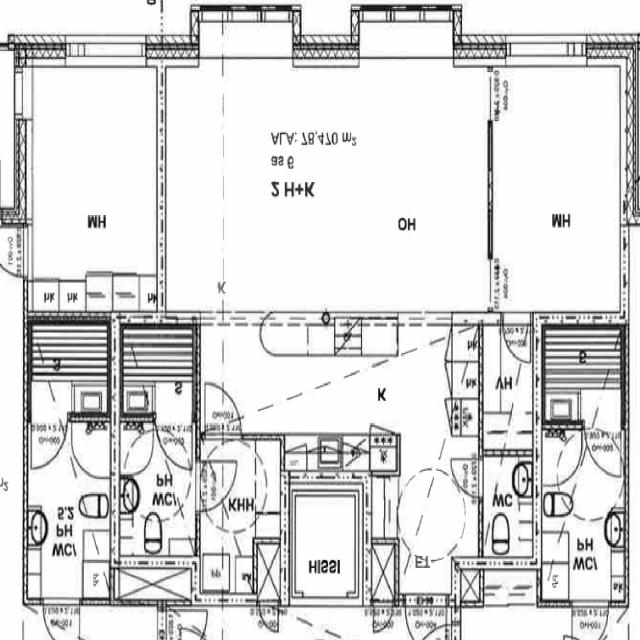door: (195, 460, 238, 511), (205, 382, 242, 440), (406, 593, 447, 640), (156, 414, 190, 470), (503, 311, 531, 364), (451, 458, 483, 496)
